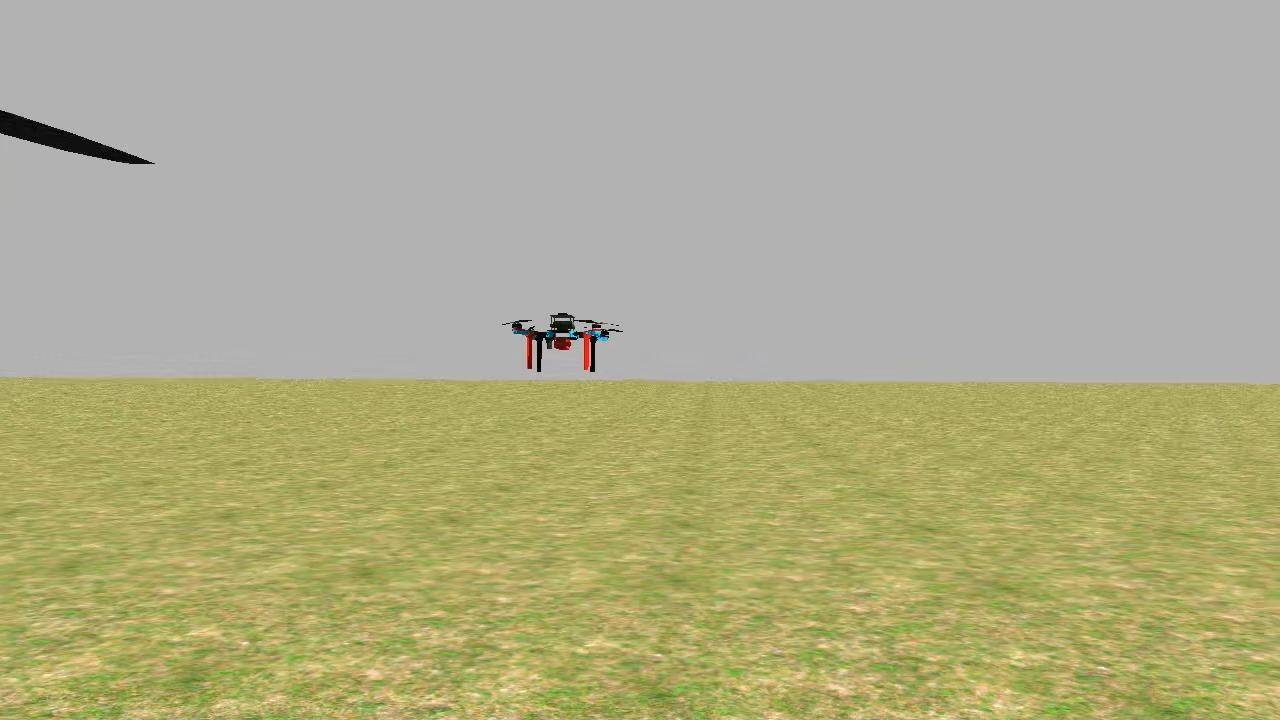UAV: (500, 310, 620, 372)
